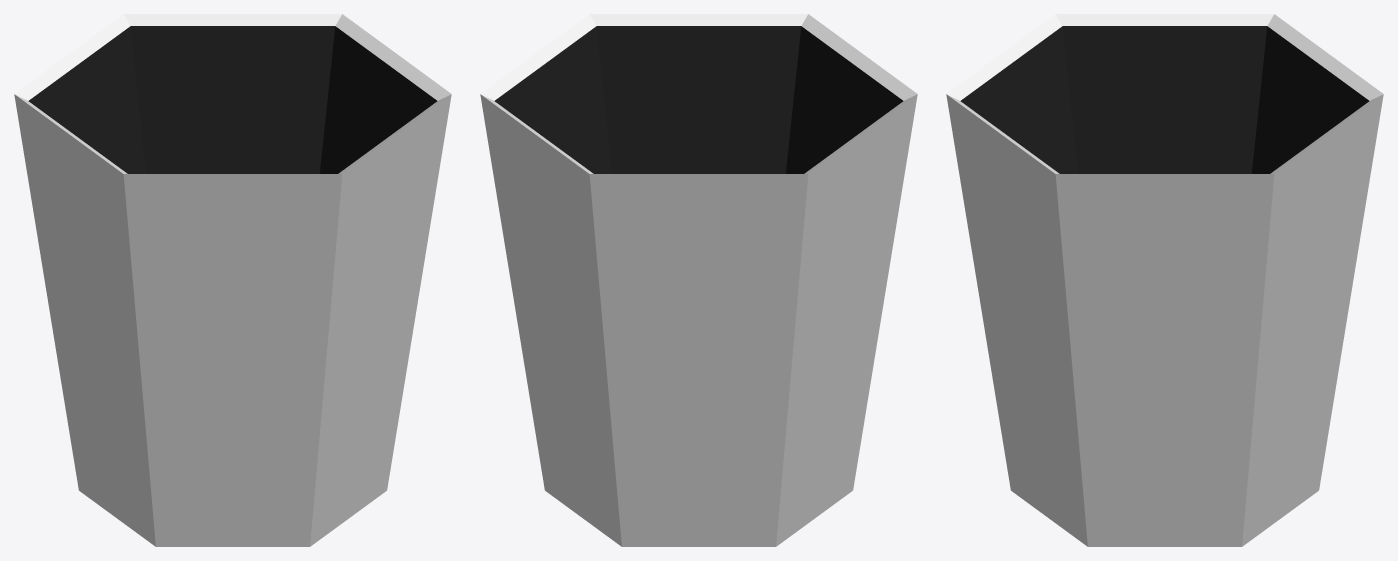
Rendered from trash.glb.
3 renders of one model, left to right at view 1: azimuth 30°, elevation 25°; view 2: azimuth 150°, elevation 25°; view 3: azimuth 270°, elevation 25°, orthographic.
Visible parts, largest first — view 1: Cube; view 2: Cube; view 3: Cube.
Part boxes in pixels (x1=…): Cube: x1=14, y1=14, x2=451, y2=546; Cube: x1=480, y1=14, x2=917, y2=546; Cube: x1=946, y1=14, x2=1383, y2=546.
Bounding box in the file's own units: 1.73 × 2 × 2.
Materials: 1 (1 with a texture image).
